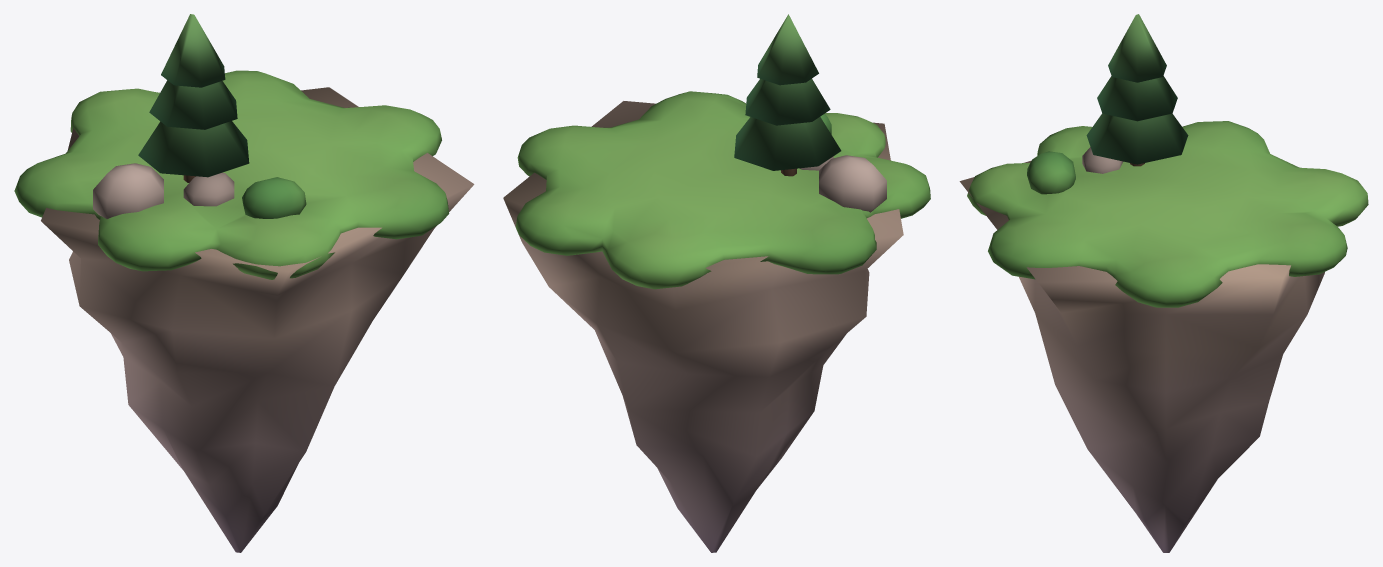
Rendered from env_sky_islet_3_lite.glb.
3 renders of one model, left to right at view 1: azimuth 30°, elevation 25°; view 2: azimuth 150°, elevation 25°; view 3: azimuth 270°, elevation 25°, orthographic. The views are drawn at different scales.
Parts seen in each view (by area): view 1: SM_sky_sky_vc_x0_z0.031; view 2: SM_sky_sky_vc_x0_z0.031; view 3: SM_sky_sky_vc_x0_z0.031.
Part boxes in pixels (x1=…): SM_sky_sky_vc_x0_z0.031: x1=14, y1=14, x2=474, y2=552; SM_sky_sky_vc_x0_z0.031: x1=503, y1=14, x2=930, y2=552; SM_sky_sky_vc_x0_z0.031: x1=959, y1=14, x2=1368, y2=552.
Bounding box in the file's own units: 7.6 × 10.38 × 7.53.
